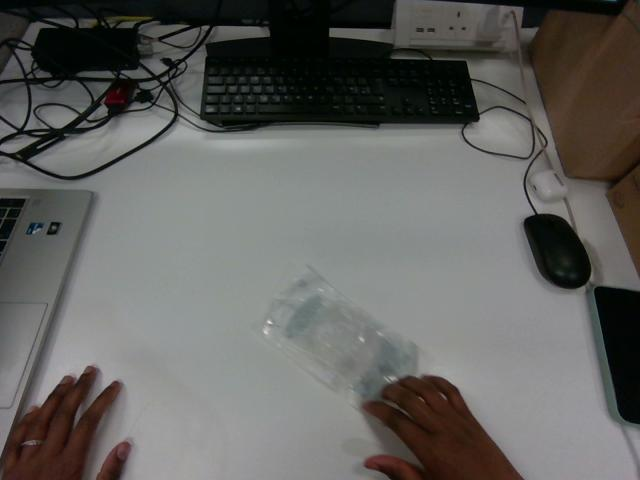gallipot: (260, 269, 418, 406)
